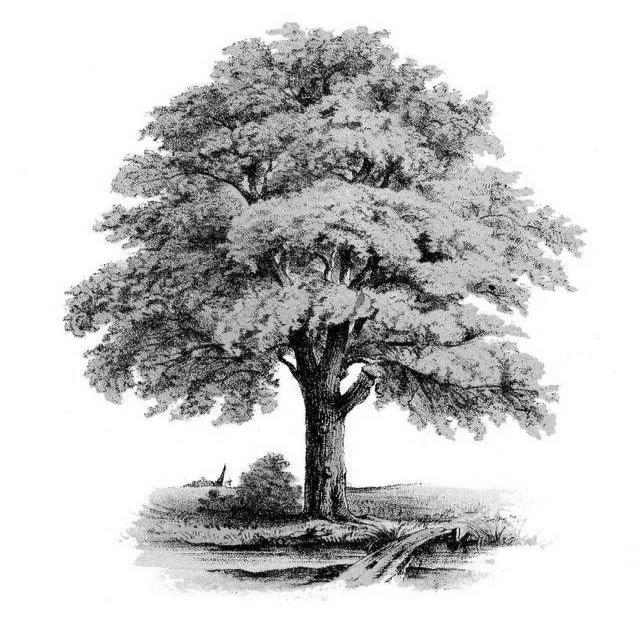Tree: (67, 25, 579, 519)
